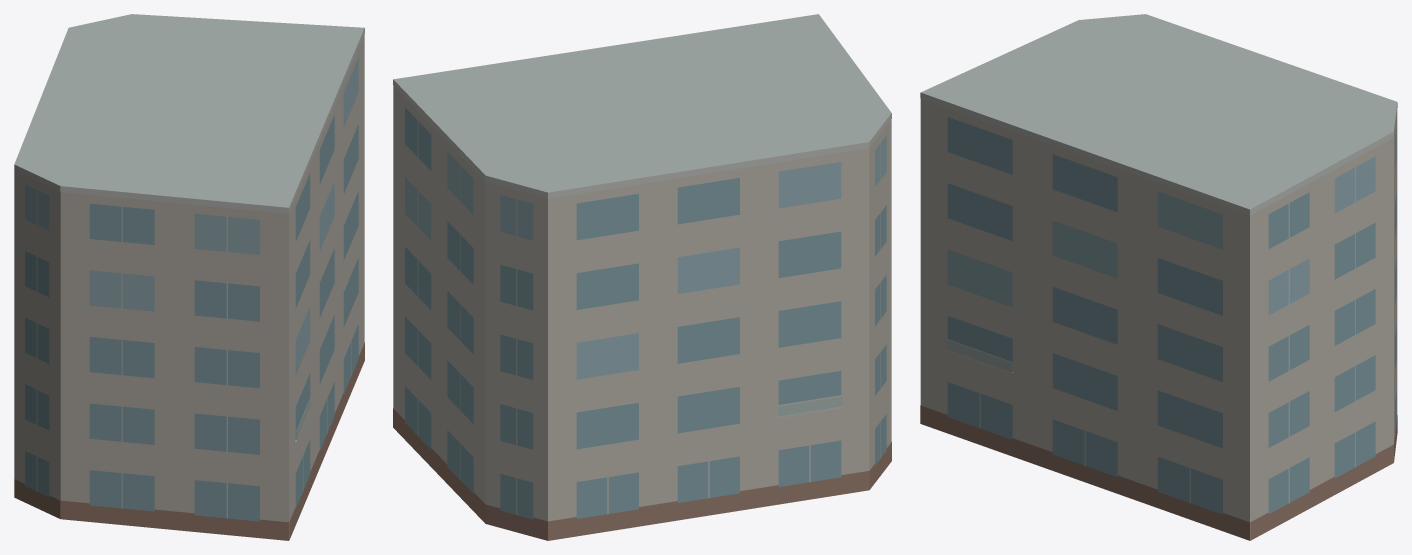
Rendered from survey-upis-32819038.glb.
3 views of the same model, side by side, from view 1: azimuth 30°, elevation 25°; view 2: azimuth 150°, elevation 25°; view 3: azimuth 270°, elevation 25° (orthographic). The views are drawn at different scales.
Visible parts, largest first — view 1: survey-upis-32819038.tmp; view 2: survey-upis-32819038.tmp; view 3: survey-upis-32819038.tmp.
Boxes of the visible parts, x1,y1,x2,y2 form: survey-upis-32819038.tmp: (14, 14, 364, 540); survey-upis-32819038.tmp: (393, 14, 891, 540); survey-upis-32819038.tmp: (920, 14, 1397, 540).
Size of the model in its own units: 17.42 by 13.75 by 17.95.
